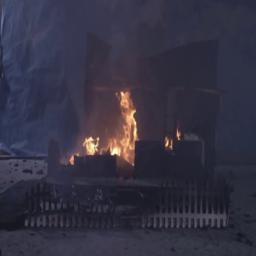fire: (77, 86, 144, 164)
